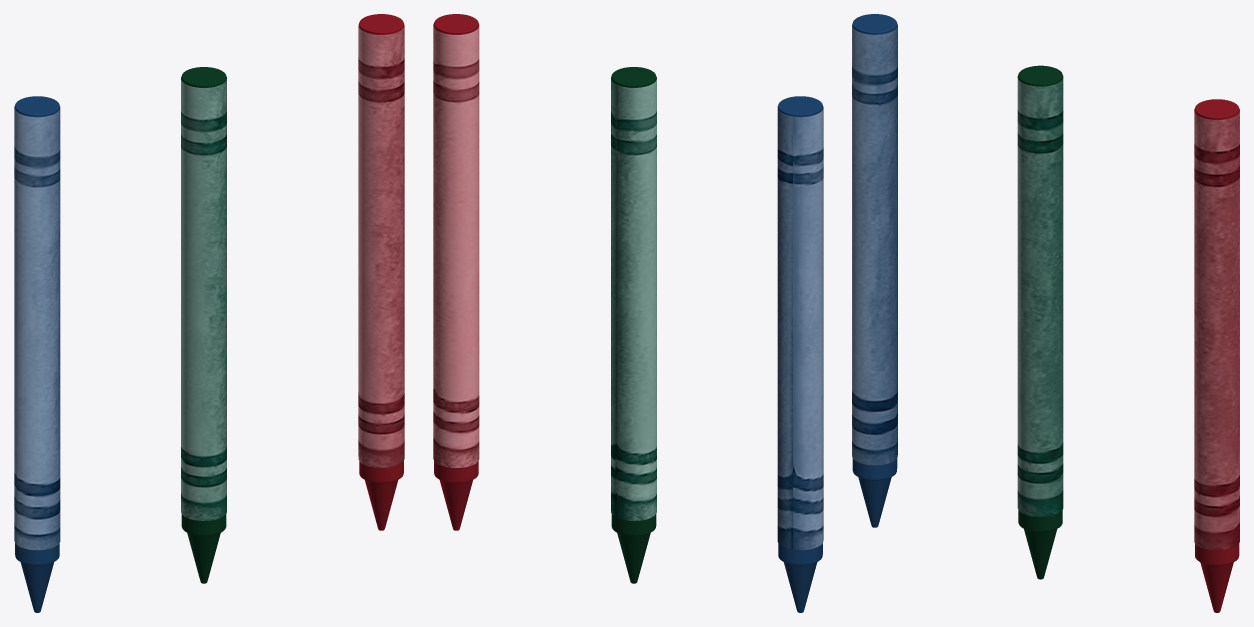
File: crayonsnytest.fbx
3 renders of one model, left to right at view 1: azimuth 30°, elevation 25°; view 2: azimuth 150°, elevation 25°; view 3: azimuth 330°, elevation 25°, orthographic.
Visible parts, largest first — view 1: 11676_Crayons_v1_L3.001, 11676_Crayons_v1_L3.003, 11676_Crayons_v1_L3.002; view 2: 11676_Crayons_v1_L3.001, 11676_Crayons_v1_L3.003, 11676_Crayons_v1_L3.002; view 3: 11676_Crayons_v1_L3.002, 11676_Crayons_v1_L3.001, 11676_Crayons_v1_L3.003.
Part boxes in pixels (bbox=[...]): 11676_Crayons_v1_L3.001: bbox=[14, 96, 60, 612]; 11676_Crayons_v1_L3.003: bbox=[358, 14, 404, 530]; 11676_Crayons_v1_L3.002: bbox=[181, 67, 226, 583]; 11676_Crayons_v1_L3.001: bbox=[777, 96, 823, 612]; 11676_Crayons_v1_L3.003: bbox=[433, 14, 479, 530]; 11676_Crayons_v1_L3.002: bbox=[611, 67, 656, 583]; 11676_Crayons_v1_L3.002: bbox=[1017, 65, 1063, 579]; 11676_Crayons_v1_L3.001: bbox=[852, 14, 897, 527]; 11676_Crayons_v1_L3.003: bbox=[1194, 99, 1239, 612].
Bounding box in the file's own units: 841 × 1084 × 87.57.
Materials: 1 (1 with a texture image).
